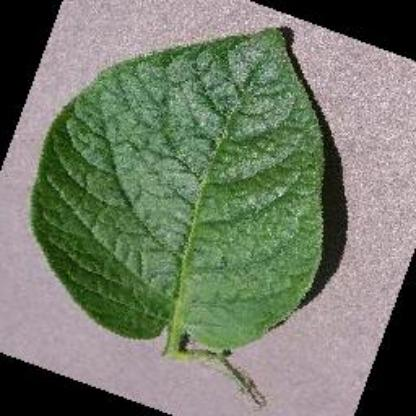Healthy-plant: (21, 16, 344, 367)
